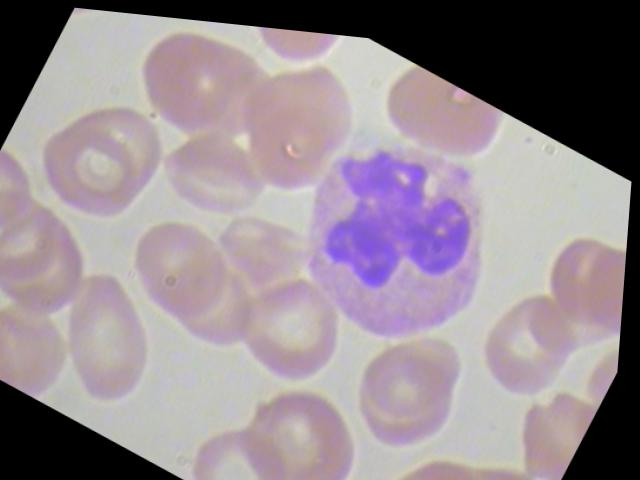Red Blood Cells: (26, 247, 187, 419), (224, 246, 373, 398), (461, 256, 603, 409), (220, 354, 390, 479), (365, 45, 521, 175), (26, 97, 169, 235), (352, 300, 484, 438), (111, 197, 246, 330), (148, 111, 286, 236), (0, 168, 84, 319), (183, 398, 318, 479)
White Blood Cells: (259, 84, 540, 371)
